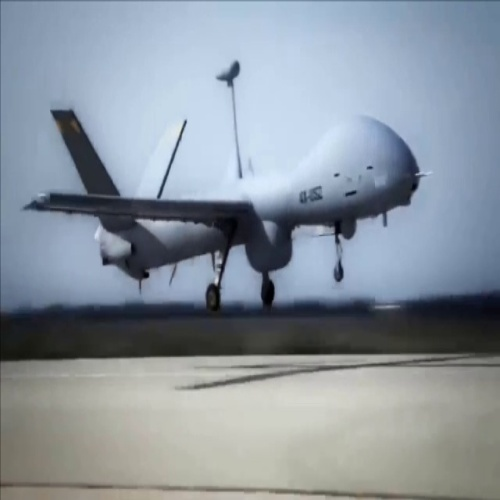uav782: (16, 60, 426, 316)
